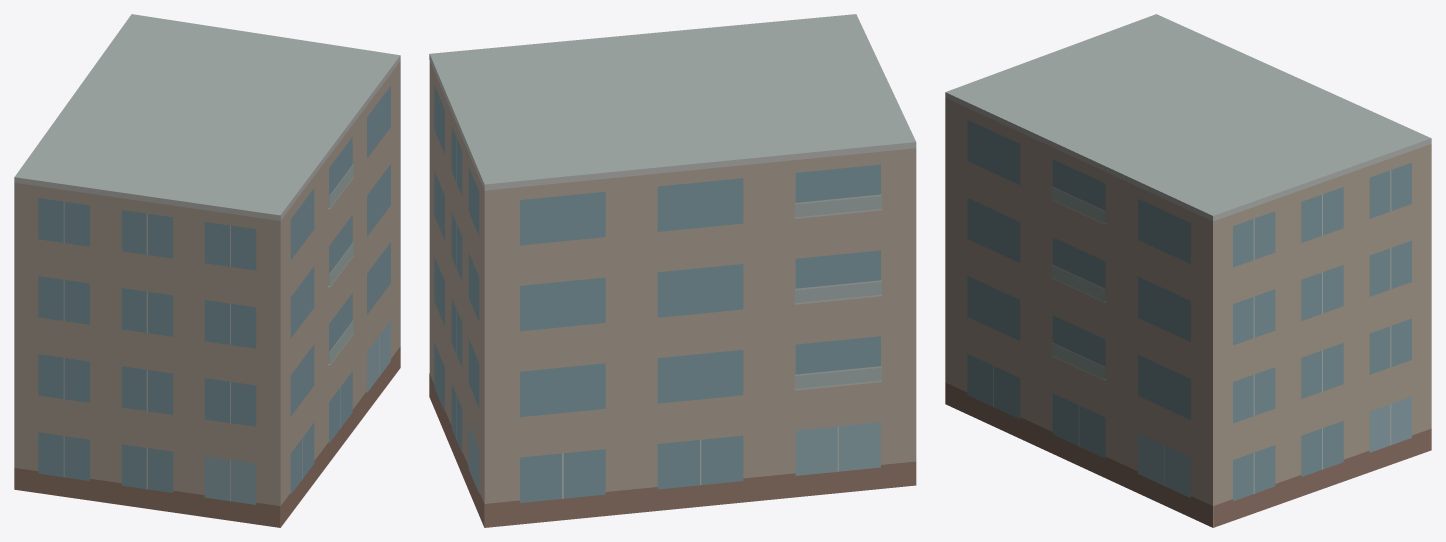
The model's file is survey-upis-32827343.glb.
The picture shows the model from 3 angles, left to right: view 1: azimuth 30°, elevation 25°; view 2: azimuth 150°, elevation 25°; view 3: azimuth 270°, elevation 25°; orthographic projection. The views are drawn at different scales.
Parts seen in each view (by area): view 1: survey-upis-32827343.tmp; view 2: survey-upis-32827343.tmp; view 3: survey-upis-32827343.tmp.
Part boxes in pixels (x1,y1,x2,y2): survey-upis-32827343.tmp: (14,14,400,527); survey-upis-32827343.tmp: (429,14,916,527); survey-upis-32827343.tmp: (945,14,1431,527).
Size of the model in its own units: 19.1 by 13.75 by 19.44.
